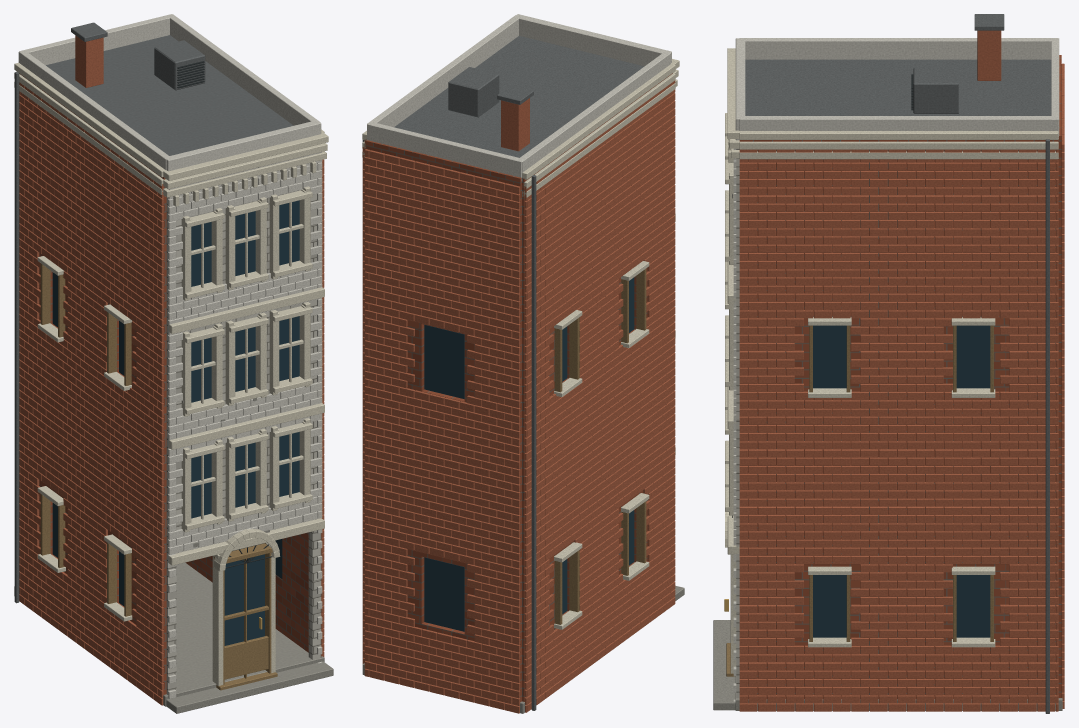
File: OFFC15_lod0.glb
The picture shows the model from 3 angles, left to right: view 1: azimuth 30°, elevation 25°; view 2: azimuth 150°, elevation 25°; view 3: azimuth 270°, elevation 25°; orthographic projection. The views are drawn at different scales.
Visible parts, largest first — view 1: OFFC15_LOD0; view 2: OFFC15_LOD0; view 3: OFFC15_LOD0.
Part boxes in pixels (box(x1,y1,x2,y2)): OFFC15_LOD0: box(14, 14, 333, 713); OFFC15_LOD0: box(362, 14, 684, 713); OFFC15_LOD0: box(713, 14, 1064, 713).
Bounding box in the file's own units: 4.11 × 13.05 × 6.6.
16 materials, 13 textured.
